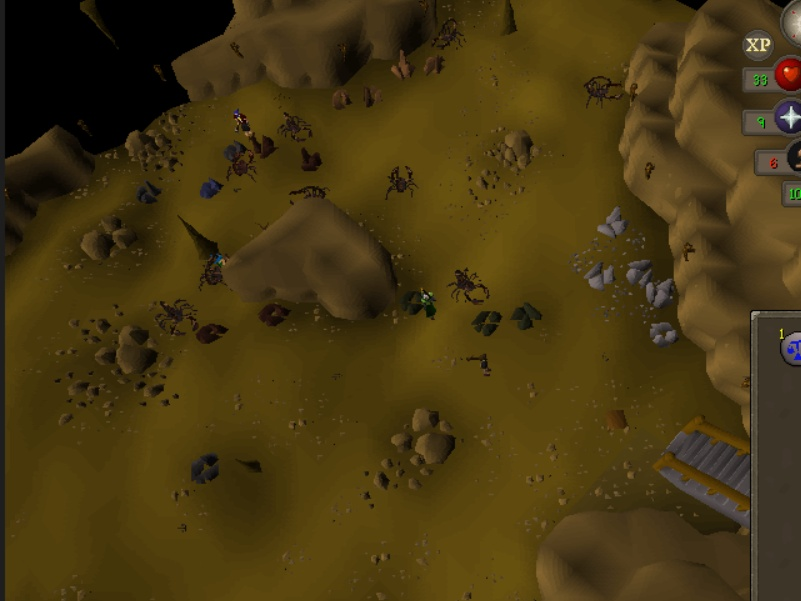coal: (507, 294, 548, 334), (467, 300, 508, 340), (393, 281, 434, 321)
copper: (387, 49, 419, 81), (328, 83, 356, 111), (358, 81, 386, 109), (421, 49, 449, 77)
iron: (254, 294, 293, 328), (292, 141, 331, 175), (192, 315, 231, 349), (248, 130, 283, 160)
mithril: (195, 172, 226, 199)
tin: (580, 252, 622, 297), (594, 203, 634, 239), (645, 318, 681, 346), (626, 253, 657, 285), (645, 279, 677, 309)
